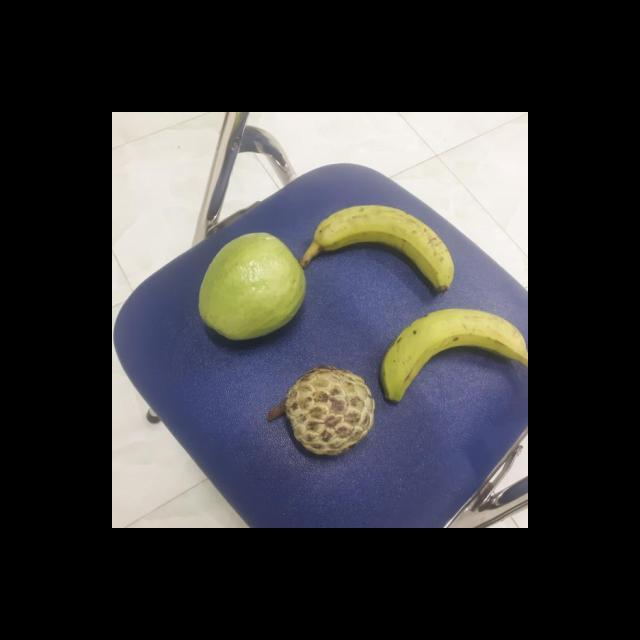Sakya fruit: (266, 366, 372, 456)
banana: (378, 306, 528, 402), (300, 206, 450, 296)
guava: (194, 235, 306, 340)
